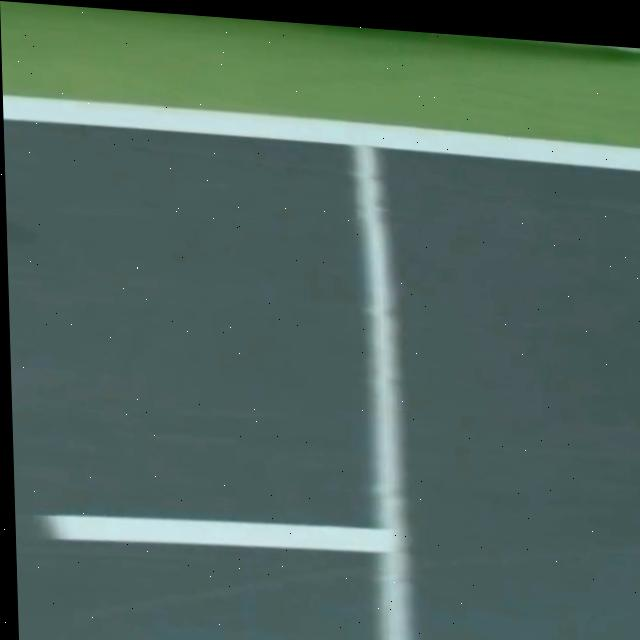center: (43, 514, 393, 552)
right: (3, 94, 640, 170)
